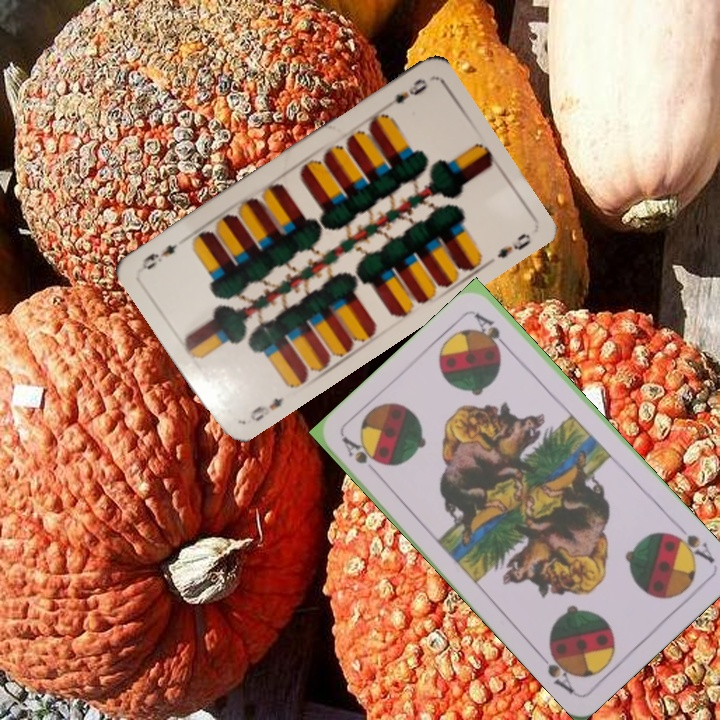E9: (379, 74, 430, 110), (245, 393, 286, 424)
SA: (665, 520, 718, 567), (338, 433, 384, 480)
